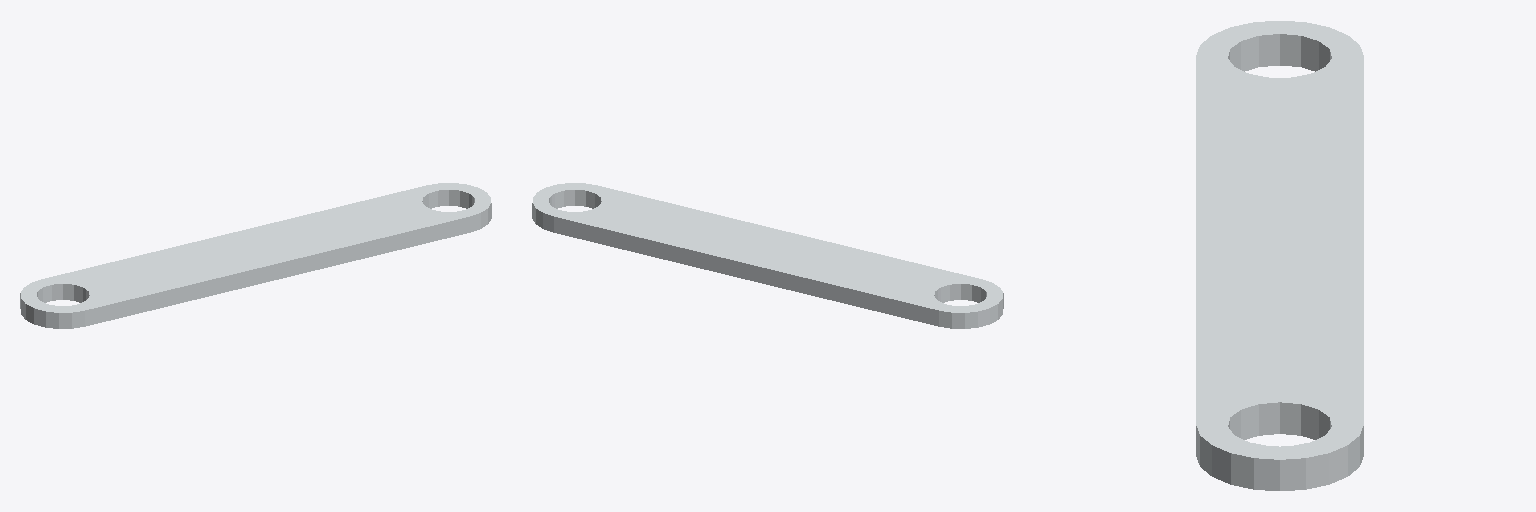
URDF robot description (arm3):
<?xml version="1.0" encoding="utf-8"?>
<!-- This URDF was automatically created by SolidWorks to URDF Exporter! Originally created by [author] ([email redacted]) 
     Commit Version: 1.6.0-4-g7f85cfe  Build Version: 1.6.7995.38578
     For more information, please see http://wiki.ros.org/sw_urdf_exporter -->
<robot
  name="arm3">
  <link
    name="base_link">
    <inertial>
      <origin
        xyz="0 0 0.0001344"
        rpy="0 0 0" />
      <mass
        value="17.735" />
      <inertia
        ixx="0.18033"
        ixy="1.3878E-17"
        ixz="3.1561E-18"
        iyy="0.18033"
        iyz="9.2658E-19"
        izz="0.35315" />
    </inertial>
    <visual>
      <geometry>
        <mesh
          filename="package://arm3/meshes/base_link.STL" />
      </geometry>
      <origin
        xyz="0 0 0"
        rpy="0 0 0" />
      <material
        name="">
        <color
          rgba="0.89804 0.91765 0.92941 1" />
      </material>
    </visual>
  </link>
  <link
    name="link_1">
    <inertial>
      <origin
        xyz="-0.25 0 0"
        rpy="0 0 0" />
      <mass
        value="10" />
      <inertia
        ixx="0.625"
        ixy="0."
        ixz="0."
        iyy="0."
        iyz="0."
        izz="0."  />
    </inertial>
    <visual>
      <origin
        xyz="0 0 0"
        rpy="0 0 0" />
      <geometry>
        <mesh
          filename="package://arm3/meshes/link_1.STL" />
      </geometry>
      <material
        name="">
        <color
          rgba="0.89804 0.91765 0.92941 1" />
      </material>
    </visual>
    <collision>
      <origin
        xyz="0 0 0"
        rpy="0 0 0" />
      <geometry>
        <mesh
          filename="package://arm3/meshes/link_1.STL" />
      </geometry>
    </collision>
  </link>
  <joint
    name="joint_1"
    type="revolute">
    <origin
      xyz="0 0 0.035"
      rpy="0 0 0" />
    <parent
      link="base_link" />
    <child
      link="link_1" />
    <axis
      xyz="0 0 1" />
    <limit
      lower="-31.4"
      upper="31.4"
      effort="100000"
      velocity="10000" />
  </joint>

</robot>

--- What the picture shows (computed from the rendered views, not written in the file) ---
3 views of the same robot in one strip: view 1: azimuth 30°, elevation 25°; view 2: azimuth 150°, elevation 25°; view 3: azimuth 270°, elevation 25° (orthographic).
Robot: arm3 — 2 links, 1 joints (1 revolute); root link base_link; default pose: all joints at 0.
Visible links, largest first — view 1: link_1; view 2: link_1; view 3: link_1.
Boxes of the visible links, x1=… form: link_1: x1=20, y1=183, x2=491, y2=328; link_1: x1=532, y1=183, x2=1003, y2=328; link_1: x1=1196, y1=21, x2=1363, y2=490.
Bounding box of the posed robot: 0.5963 × 0.0963 × 0.02 m (x, y, z).
1 mesh visuals loaded from 2 distinct referenced files (1 binary STL); not drawn: 1 (reference not matched to a file when rendering).